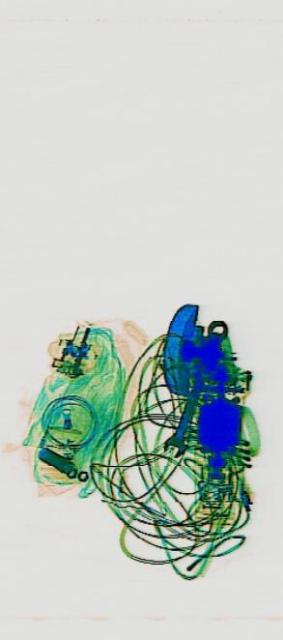Wrench: (160, 304, 229, 471)
